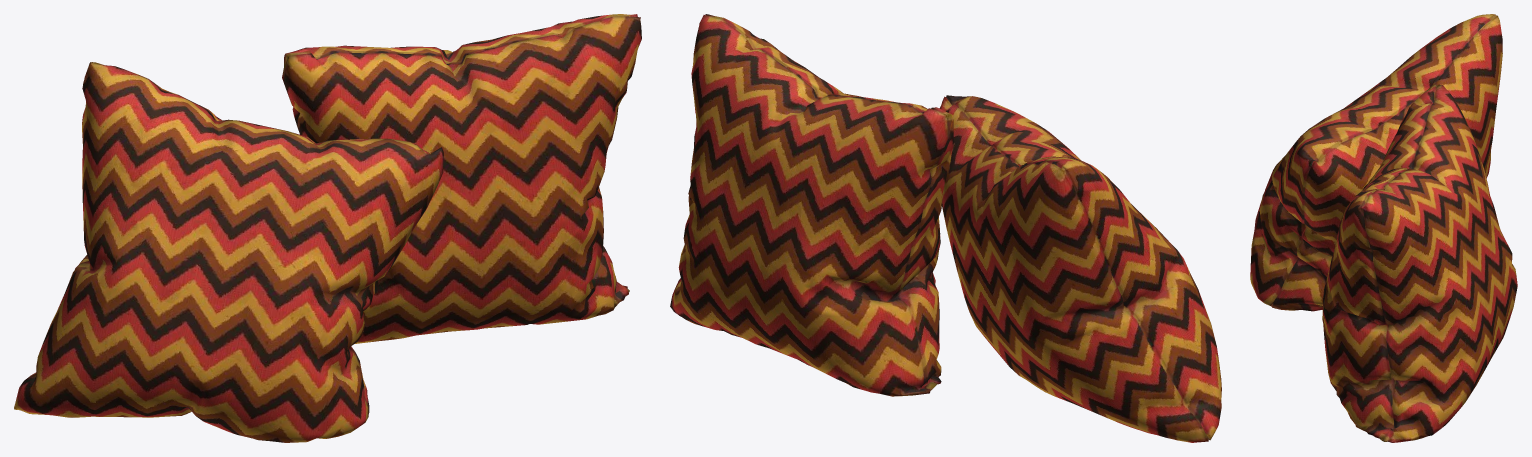
File: ph_throw_pillows_01.glb
The picture shows the model from 3 angles, left to right: view 1: azimuth 30°, elevation 25°; view 2: azimuth 150°, elevation 25°; view 3: azimuth 270°, elevation 25°; orthographic projection. The views are drawn at different scales.
Visible parts, largest first — view 1: throw_pillows_01_pillow01, throw_pillows_01_pillow02; view 2: throw_pillows_01_pillow02, throw_pillows_01_pillow01; view 3: throw_pillows_01_pillow02, throw_pillows_01_pillow01.
Part boxes in pixels (x1,y1,x2,y2): throw_pillows_01_pillow01: (14,62,443,442); throw_pillows_01_pillow02: (282,14,641,343); throw_pillows_01_pillow02: (670,14,953,396); throw_pillows_01_pillow01: (939,95,1221,442); throw_pillows_01_pillow02: (1322,84,1517,442); throw_pillows_01_pillow01: (1250,14,1502,311).
Size of the model in its own units: 0.9401 by 0.4502 by 0.4519.
1 material, 1 textured.
